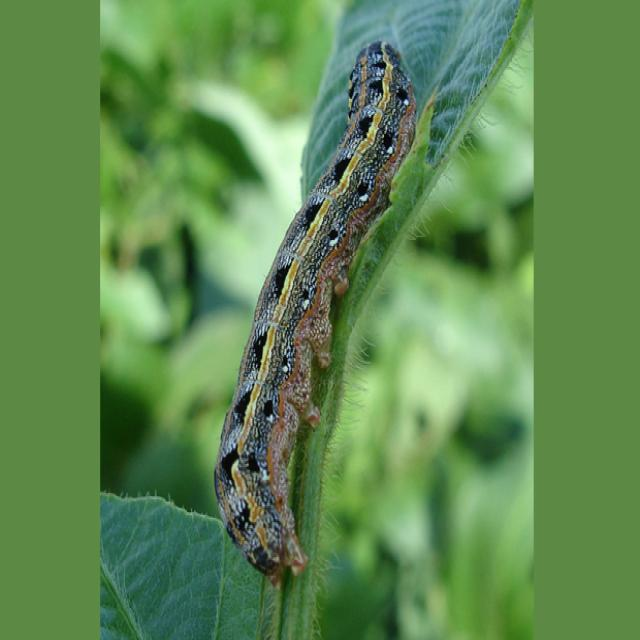pest-armyworm: (210, 35, 421, 594)
